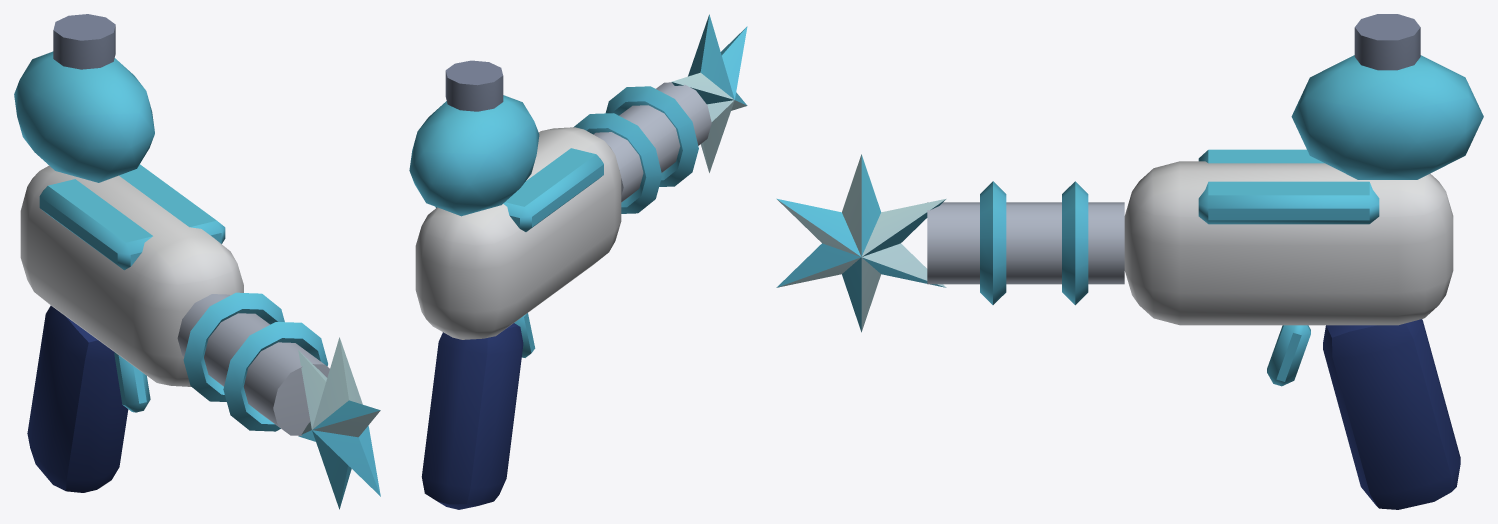
File: w_a_freeze.glb
3 renders of one model, left to right at view 1: azimuth 30°, elevation 25°; view 2: azimuth 150°, elevation 25°; view 3: azimuth 270°, elevation 25°, orthographic. The views are drawn at different scales.
Visible parts, largest first — view 1: body; view 2: body; view 3: body.
Boxes of the visible parts, x1,y1,x2,y2 form: body: (14, 14, 380, 509); body: (409, 14, 747, 509); body: (776, 14, 1483, 509).
Size of the model in its own units: 0.1404 by 0.5773 by 0.7748.
